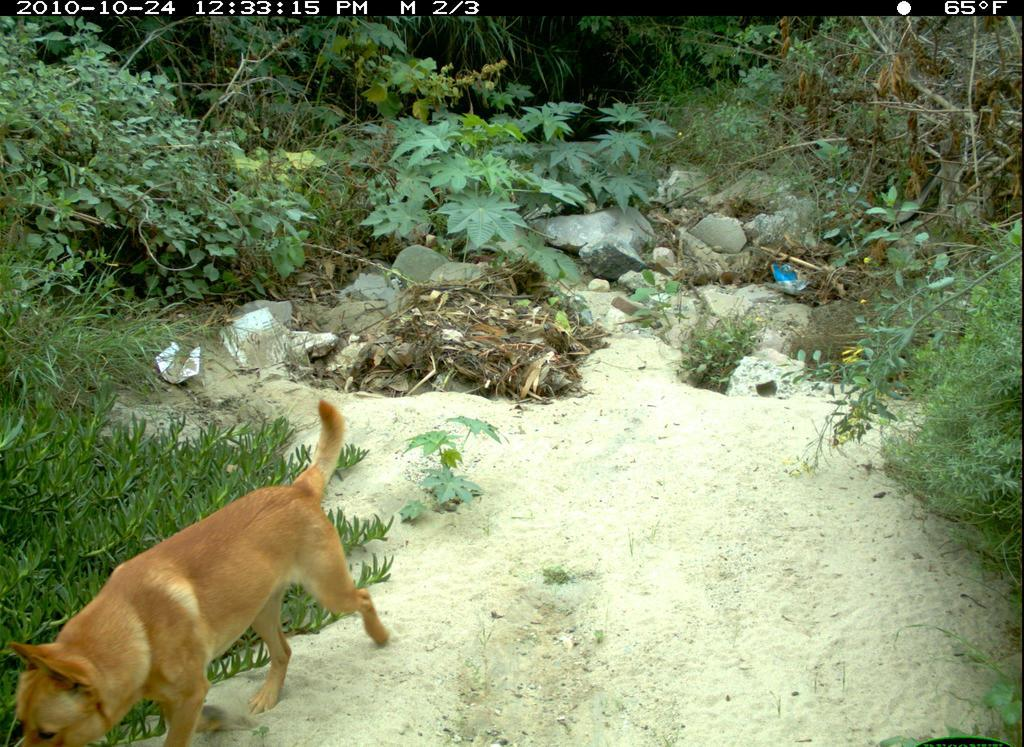dog: (12, 437, 419, 743)
